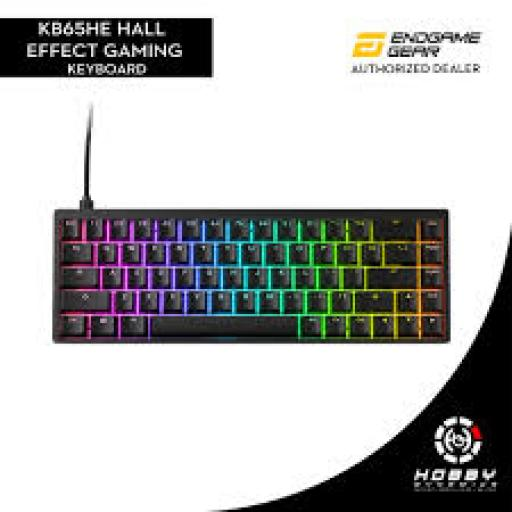keyboard: (55, 209, 448, 339)
